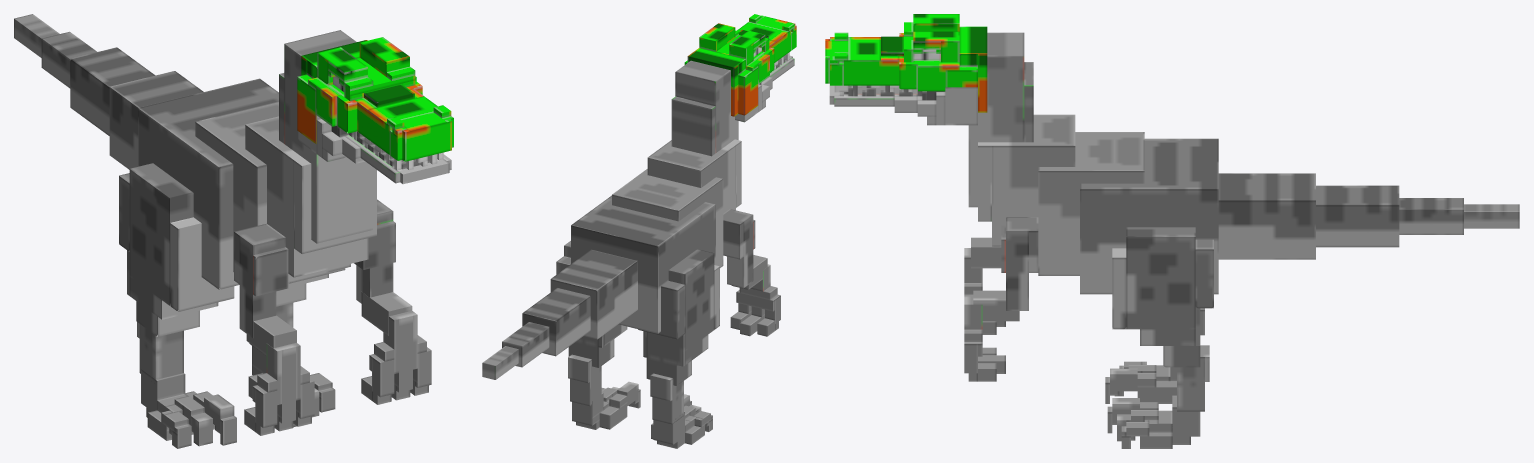
File: Reptiles_Biped_ 1.obj
3 views of the same model, side by side, from view 1: azimuth 30°, elevation 25°; view 2: azimuth 150°, elevation 25°; view 3: azimuth 270°, elevation 25° (orthographic). The views are drawn at different scales.
Parts seen in each view (by area): view 1: Model; view 2: Model; view 3: Model.
Part boxes in pixels (x1,y1,x2,y2): Model: (14, 14, 453, 448); Model: (482, 14, 796, 448); Model: (825, 14, 1519, 448).
Size of the model in its own units: 36 by 92.5 by 150.
Materials: 1 (1 with a texture image).
